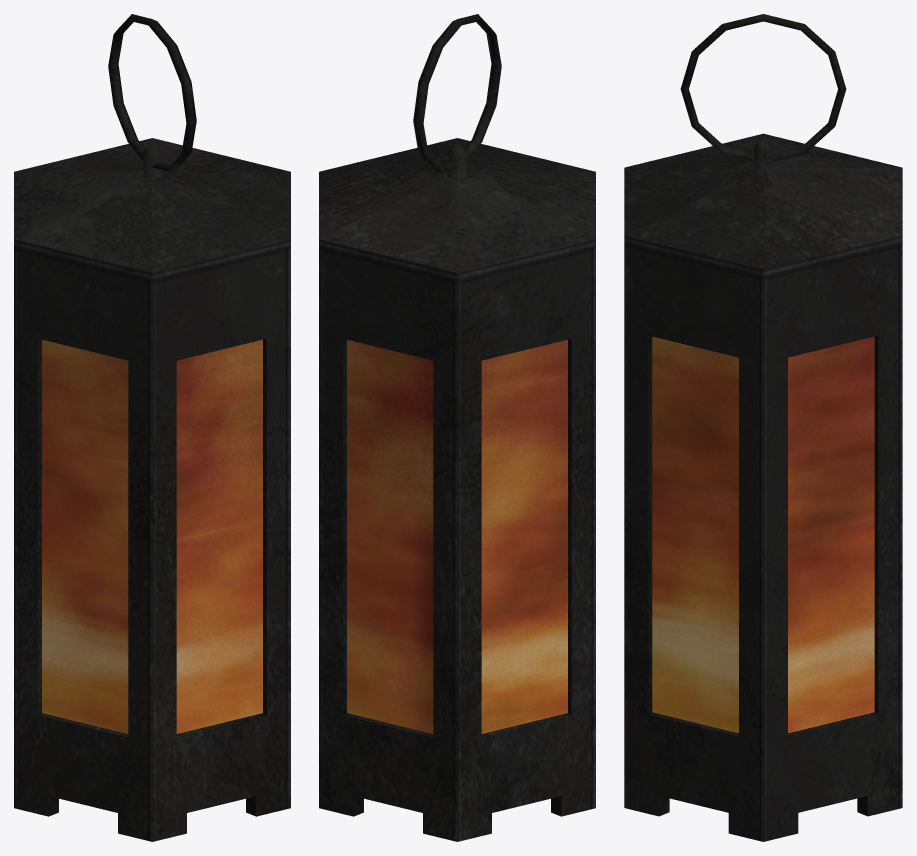
File: SA_LD_Medieval_Horn_Lantern.obj
The picture shows the model from 3 angles, left to right: view 1: azimuth 30°, elevation 25°; view 2: azimuth 150°, elevation 25°; view 3: azimuth 270°, elevation 25°; orthographic projection.
Parts seen in each view (by area): view 1: Horn_Lantern; view 2: Horn_Lantern; view 3: Horn_Lantern.
Part boxes in pixels (<box>): Horn_Lantern: <box>14,14,290,841</box>; Horn_Lantern: <box>319,14,595,841</box>; Horn_Lantern: <box>624,14,902,841</box>.
Bounding box in the file's own units: 0.3297 × 0.8599 × 0.2855.
1 material, 1 textured.
